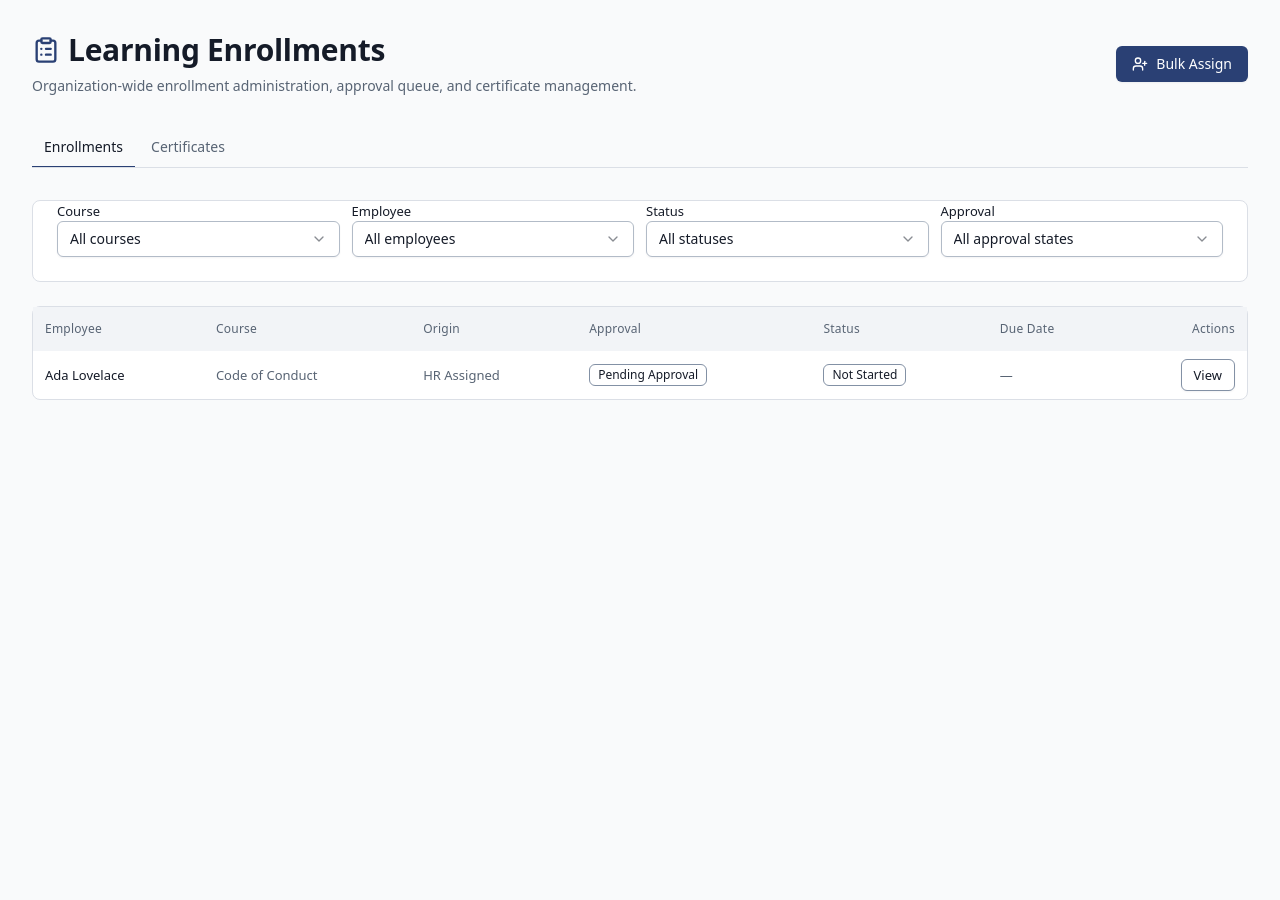
Test case: Learning Enrollments (internal HR/L&D workspace) page › rejecting an enrollment request asks for confirmation and only rejects on confirm
Step 1. Click the button with test id "button-view-enrollment-1" → (1208, 375), box [1180, 359, 1235, 391]
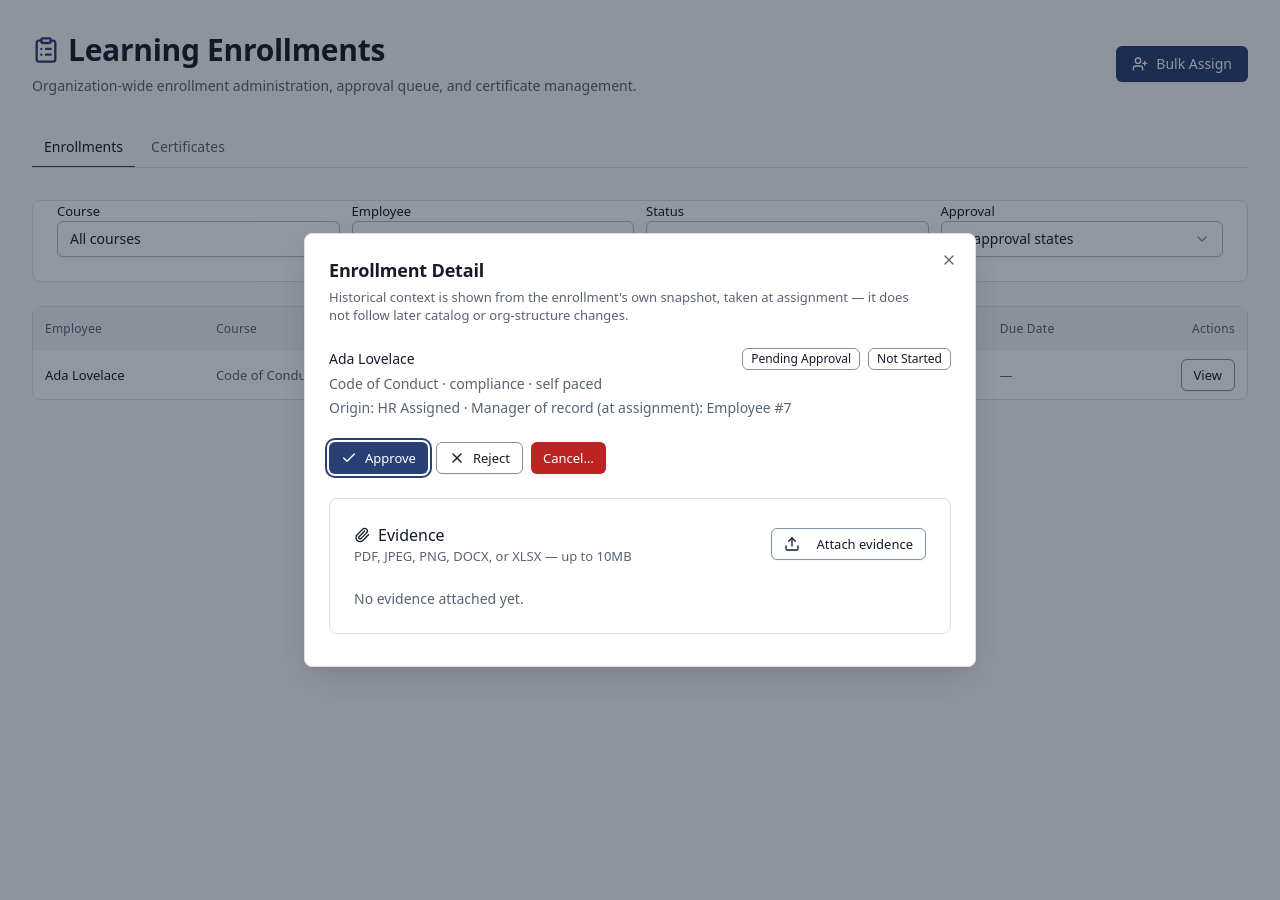
Step 2. Click the button with test id "button-reject-1" → (480, 458), box [436, 442, 523, 474]
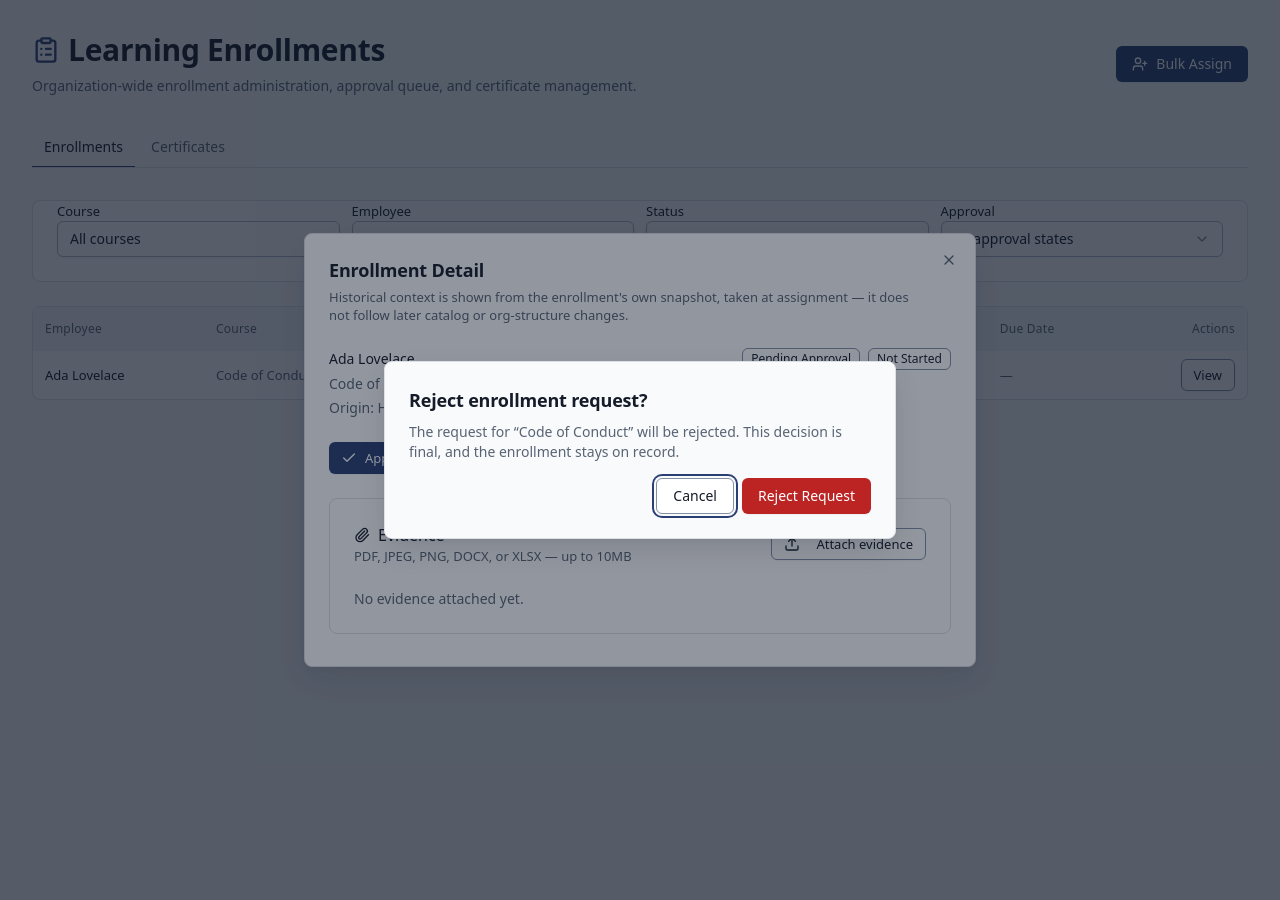
Now the dialog with test id "dialog-reject-enrollment-1" shows "Reject enrollment request?", box [409, 388, 647, 412]
Now the dialog with test id "dialog-reject-enrollment-1" shows "Code of Conduct", box [519, 422, 628, 441]
Step 3. Click the button with test id "dialog-reject-enrollment-1-confirm" → (806, 496), box [742, 478, 871, 514]
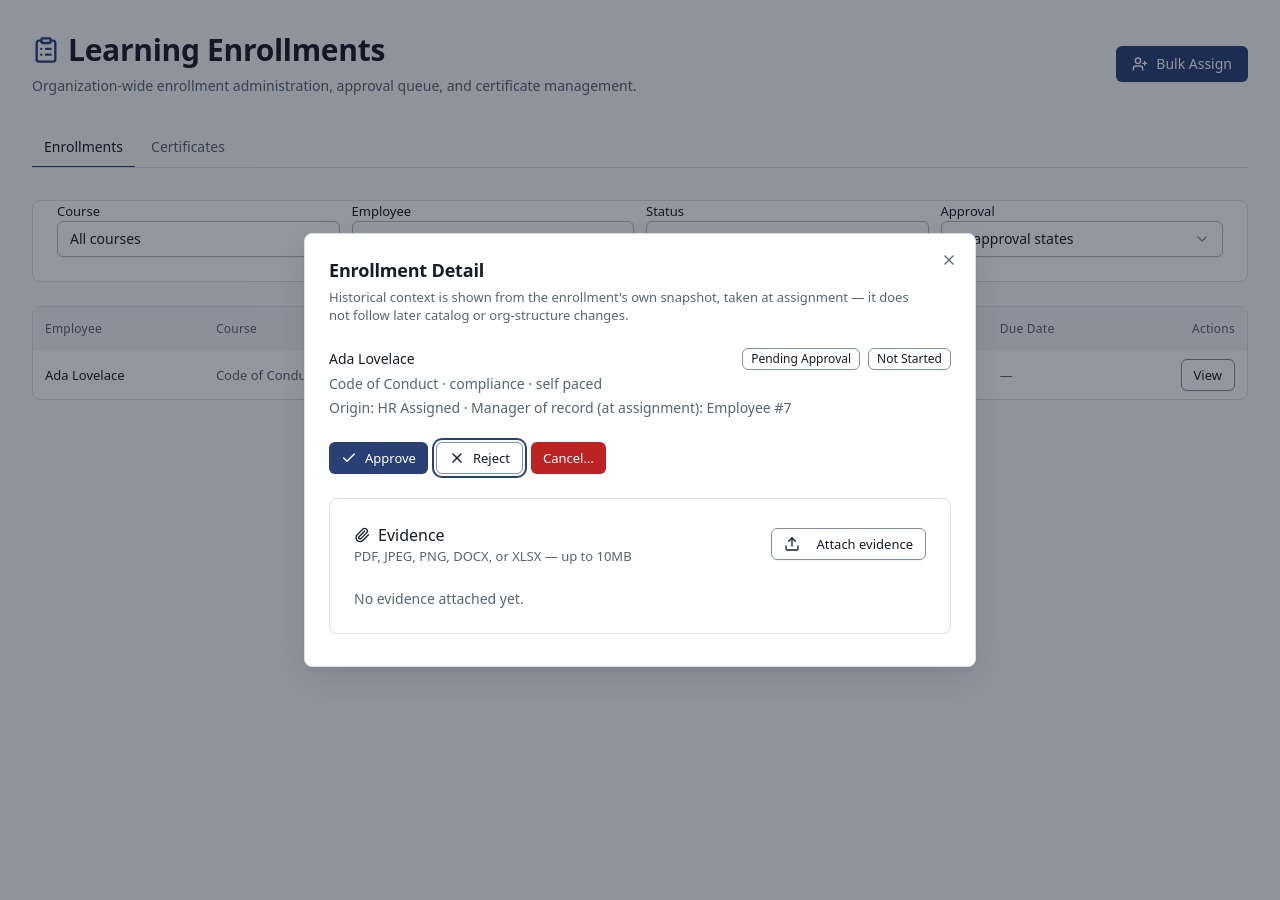
Now the dialog with test id "dialog-reject-enrollment-1" is gone
